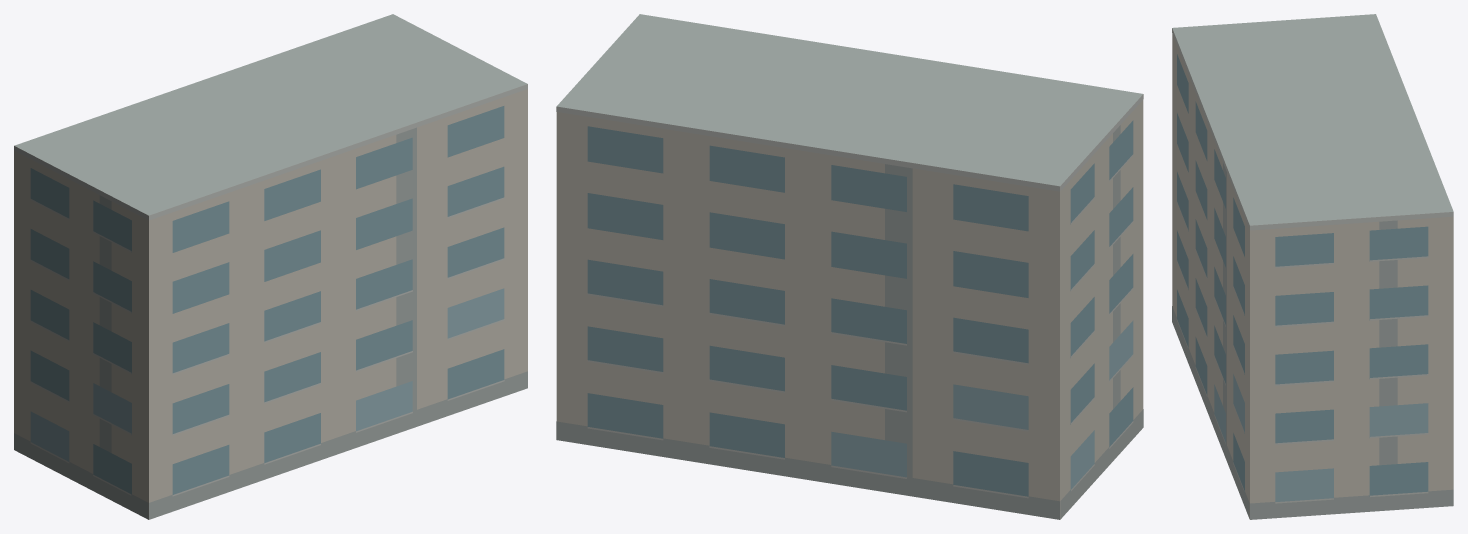
File: survey-upis-32963292.glb
3 views of the same model, side by side, from view 1: azimuth 30°, elevation 25°; view 2: azimuth 150°, elevation 25°; view 3: azimuth 270°, elevation 25° (orthographic). The views are drawn at different scales.
Visible parts, largest first — view 1: survey-upis-32963292.tmp; view 2: survey-upis-32963292.tmp; view 3: survey-upis-32963292.tmp.
Boxes of the visible parts, <box> form: survey-upis-32963292.tmp: <box>14,14,527,519</box>; survey-upis-32963292.tmp: <box>556,14,1143,519</box>; survey-upis-32963292.tmp: <box>1172,14,1453,519</box>.
Size of the model in its own units: 23 by 14.9 by 12.93.
